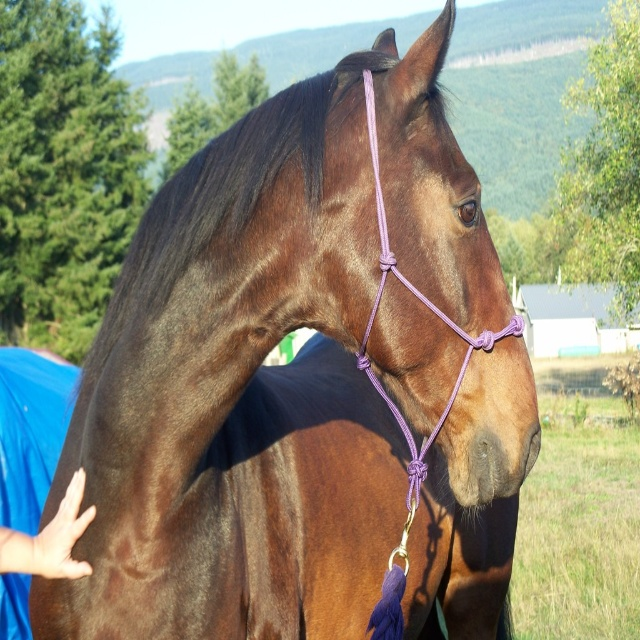Horse: (29, 0, 541, 640)
